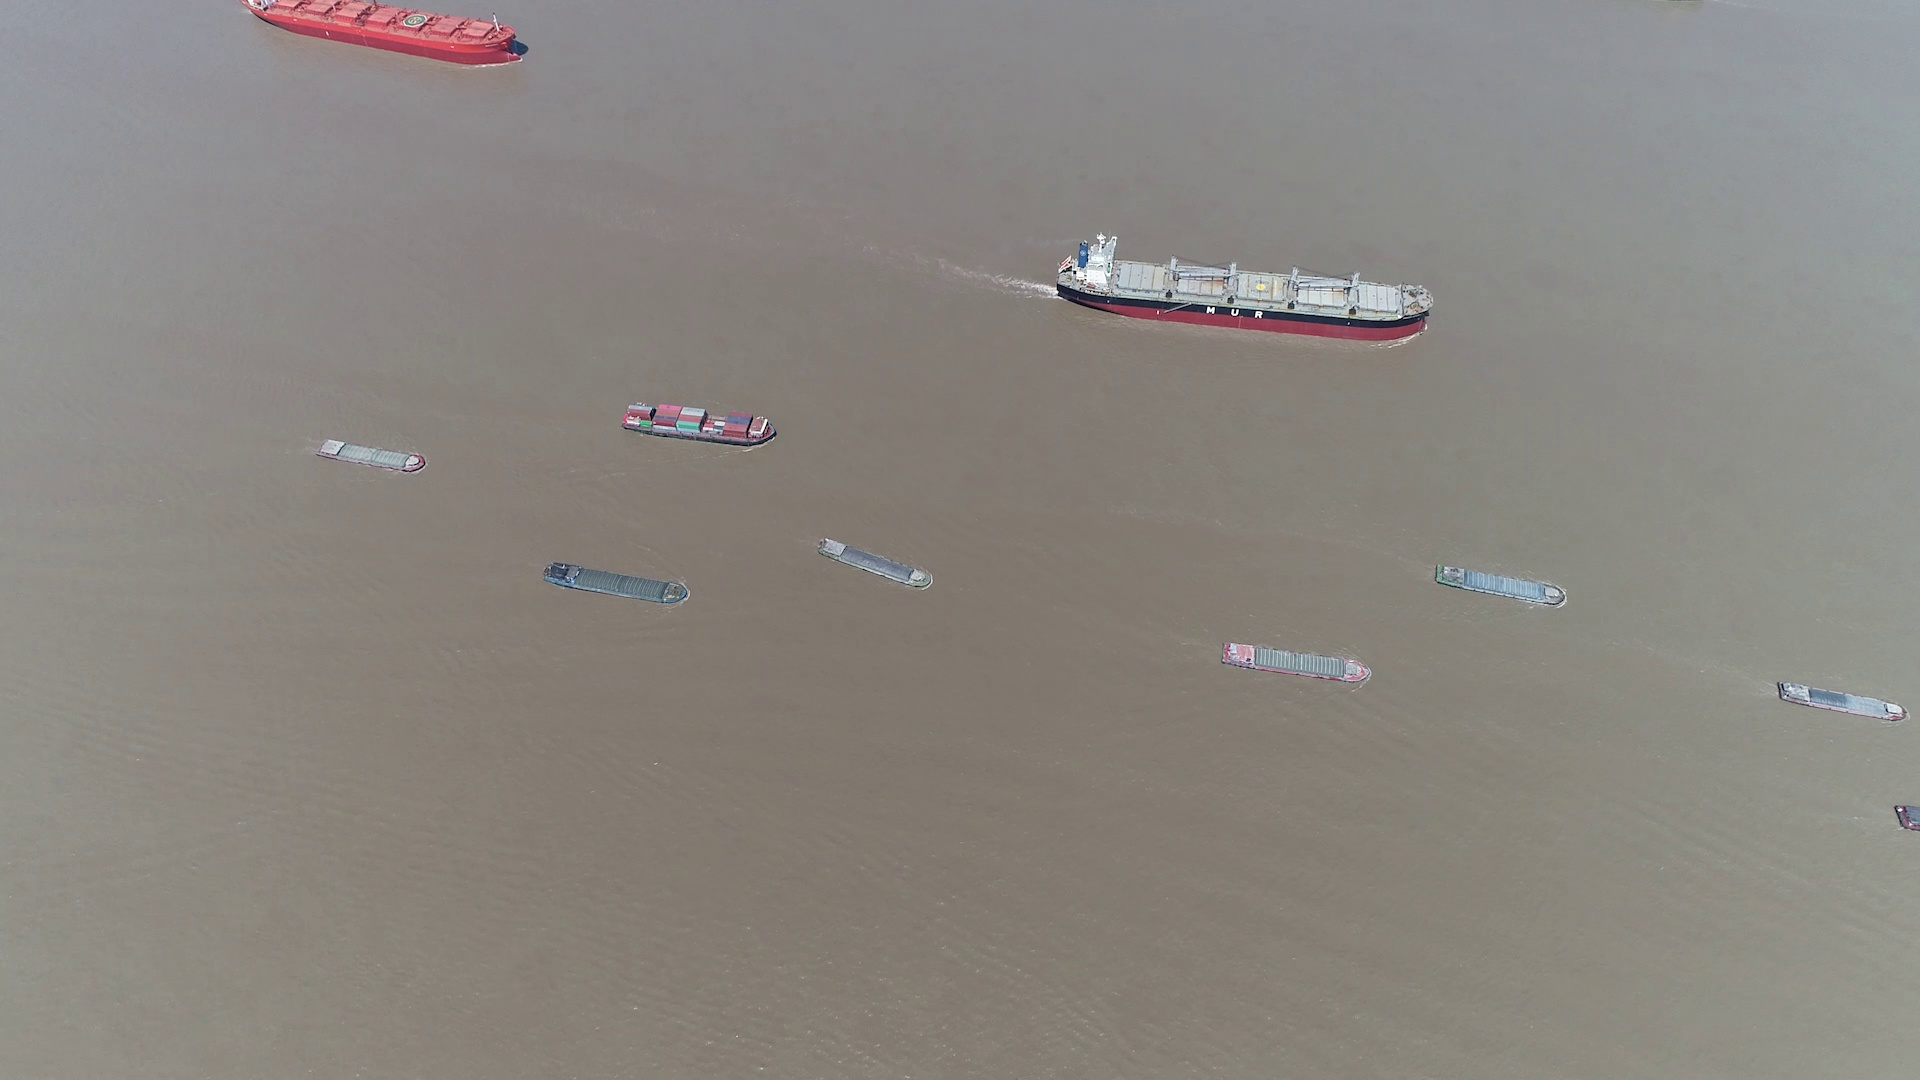ship: (1058, 237, 1437, 342), (245, 0, 525, 65), (543, 563, 692, 607), (622, 402, 775, 444), (1431, 564, 1569, 609), (1220, 642, 1371, 683), (819, 538, 934, 591), (1776, 682, 1907, 721), (316, 436, 427, 472)
